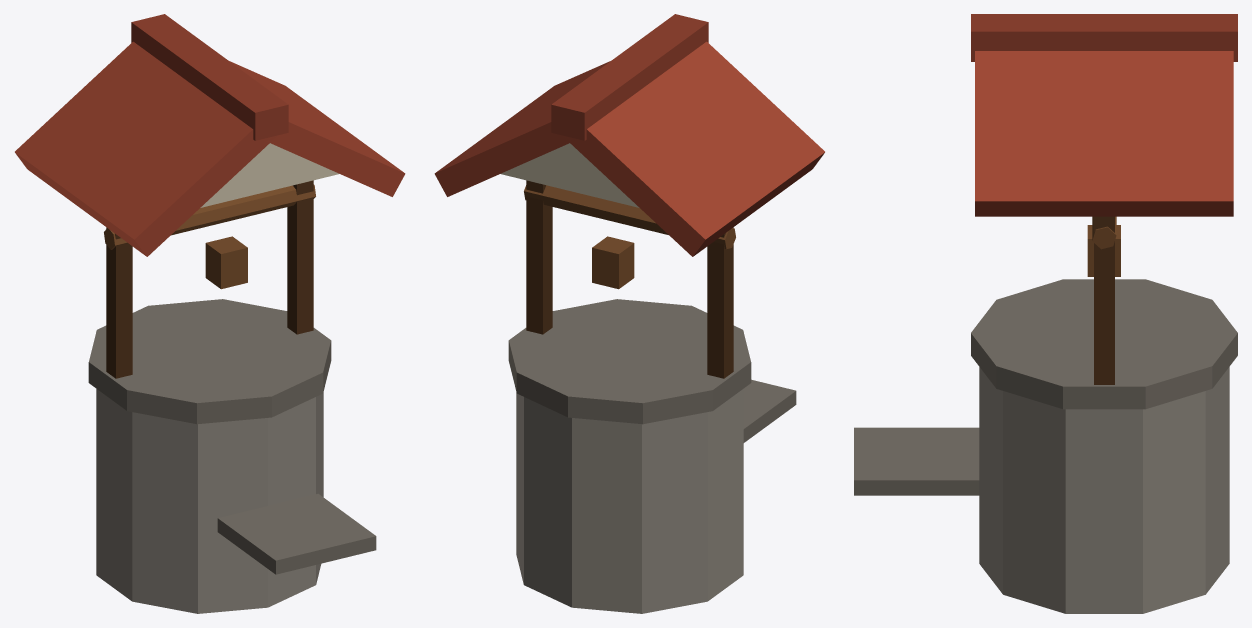
The model's file is well.glb.
The picture shows the model from 3 angles, left to right: view 1: azimuth 30°, elevation 25°; view 2: azimuth 150°, elevation 25°; view 3: azimuth 270°, elevation 25°; orthographic projection. The views are drawn at different scales.
Parts seen in each view (by area): view 1: well; view 2: well; view 3: well.
Part boxes in pixels (x1,y1,x2,y2): well: (15,14,405,613); well: (434,14,824,613); well: (854,14,1237,613).
Size of the model in its own units: 0.8086 by 1.43 by 0.92.
